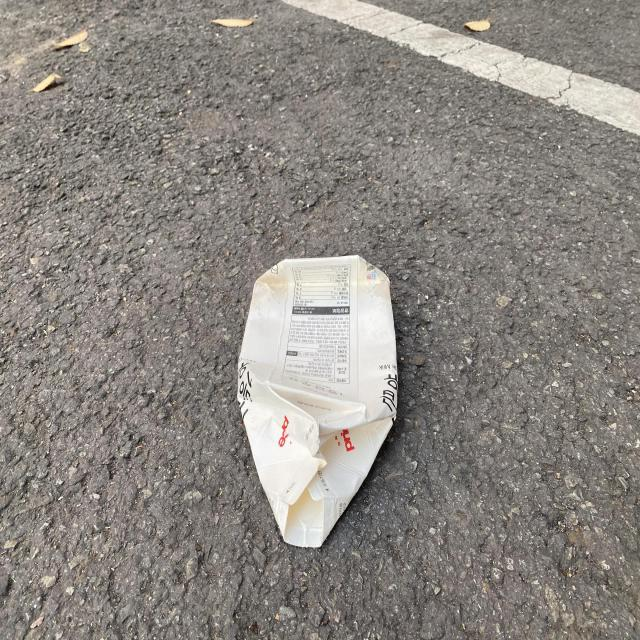paperpack: (237, 256, 398, 548)
